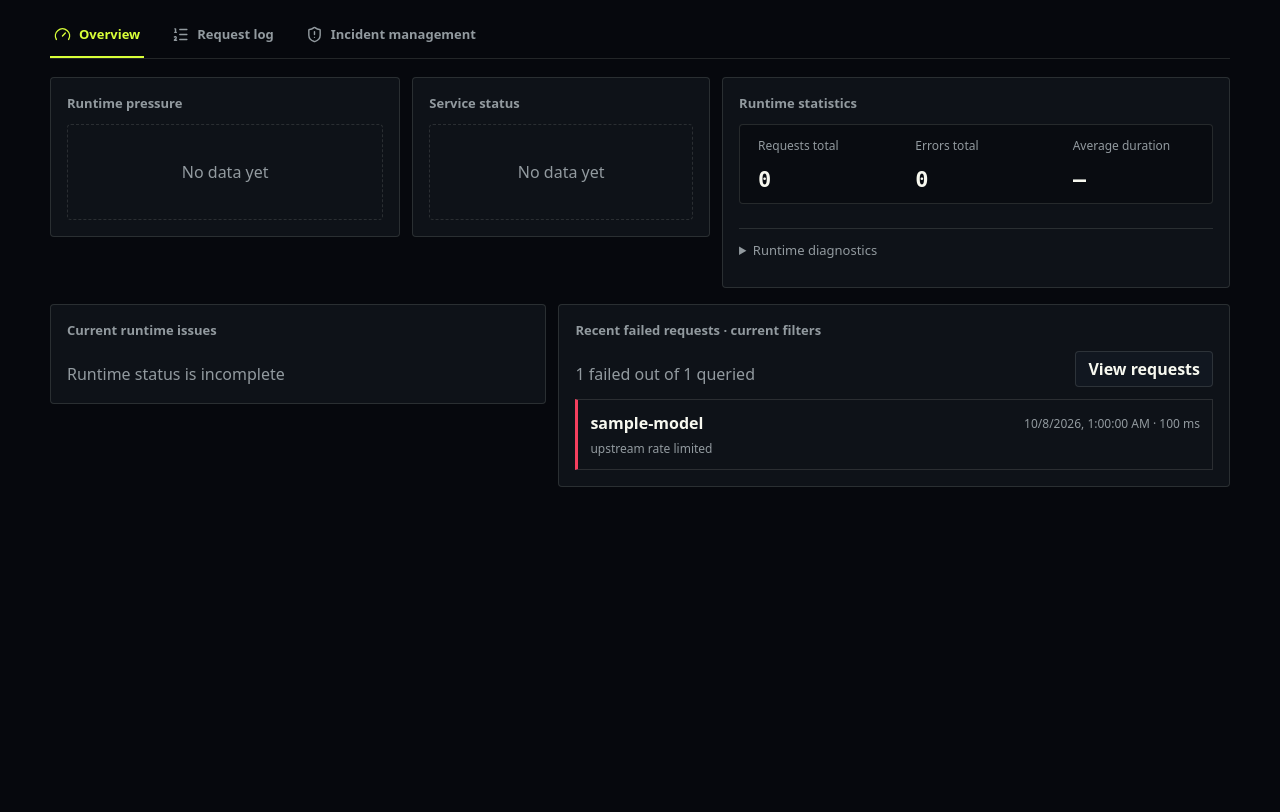
Test case: operations workspace boundaries › surfaces failed requests on entry and transfers focus to investigation without applying filters
Expected: the text "upstream rate limited" is shown, [590, 440, 712, 457]
Click the button "View requests".
click(1144, 369)  # box [1075, 351, 1213, 387]
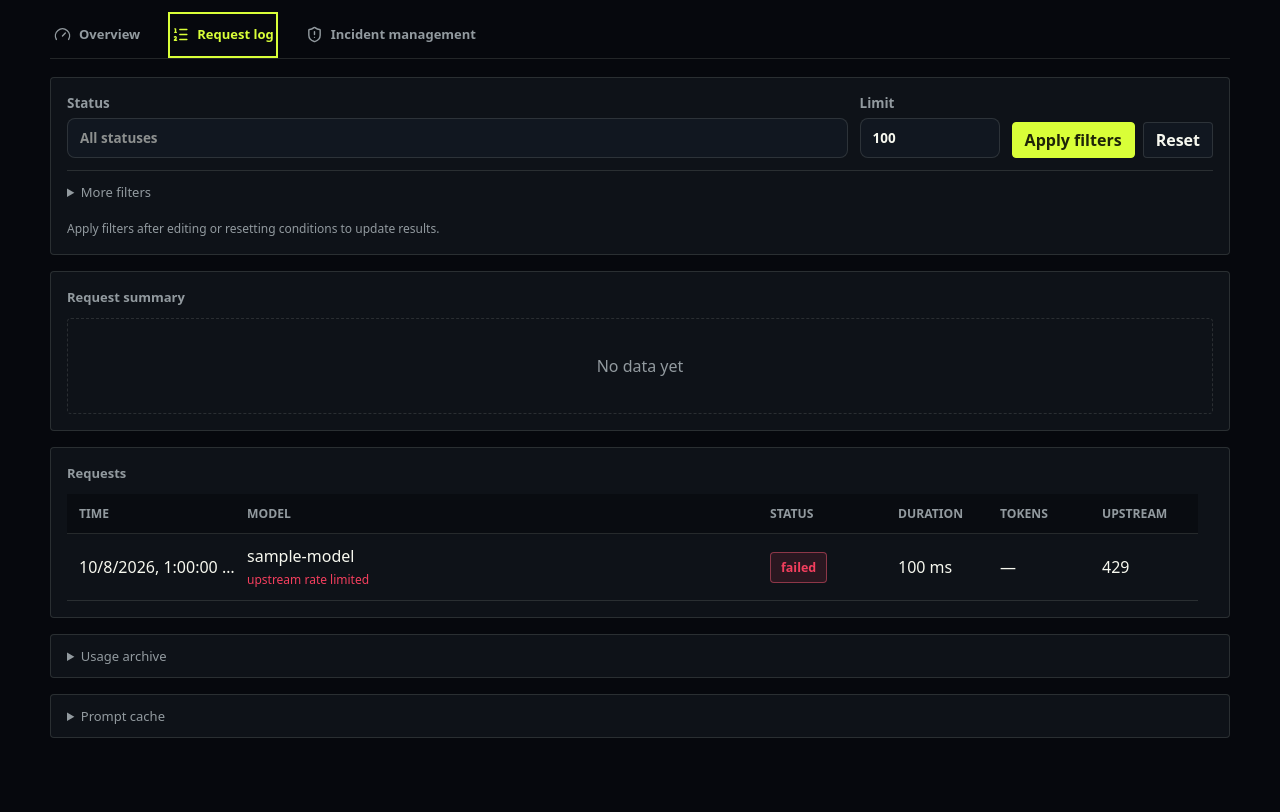
Expected: the text "upstream rate limited" is shown, [247, 571, 369, 588]
Expected: the number of panels is 1
Expected: the panel named "Request log" is shown
